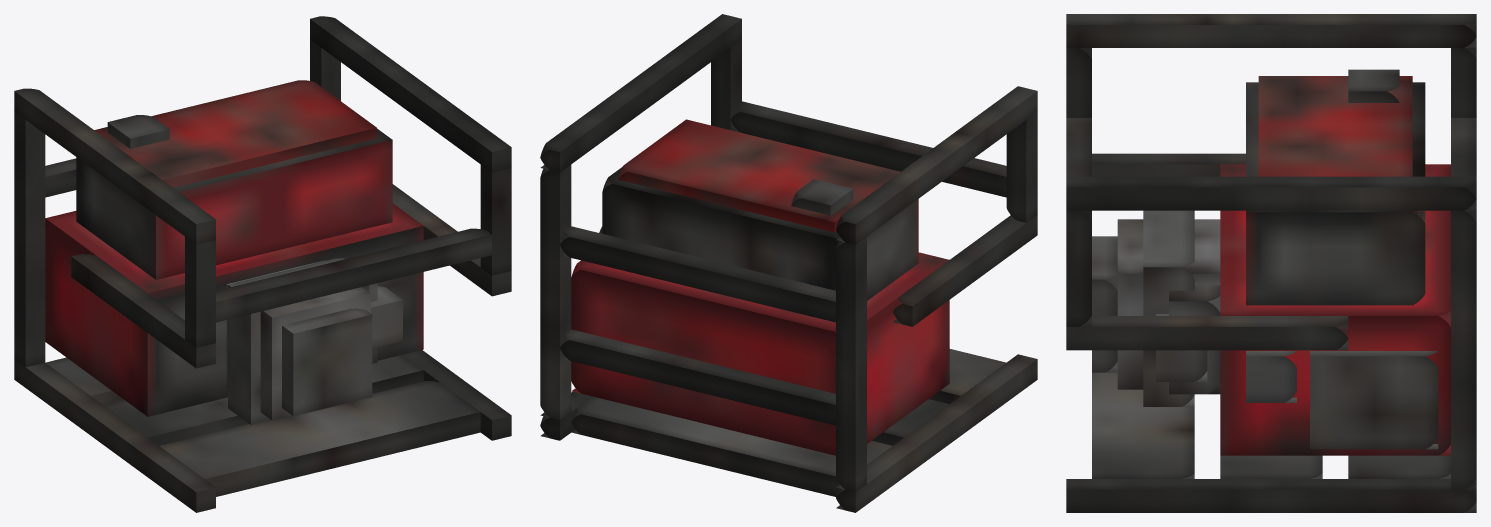
The model's file is power_generator.obj.
3 views of the same model, side by side, from view 1: azimuth 30°, elevation 25°; view 2: azimuth 150°, elevation 25°; view 3: azimuth 270°, elevation 25° (orthographic). The views are drawn at different scales.
Parts seen in each view (by area): view 1: nJ, nK, nA, nM, nS, nO, nE, nD, nC, nx, nH, nT (+11 smaller); view 2: nJ, nK, nM, nz, nU, nV, nE, nD, nC, nS, nB, nx (+7 smaller); view 3: nJ, nK, nM, nD, nE, ny, nX, nI, nA, nB, nP, nN (+13 smaller).
Part boxes in pixels (x1,y1,x2,y2): nJ: (45, 203, 423, 416); nK: (76, 128, 392, 279); nA: (160, 381, 480, 496); nM: (94, 80, 376, 187); nS: (216, 228, 491, 322); nO: (282, 308, 372, 416); nE: (14, 88, 215, 244); nD: (310, 16, 511, 172); nC: (14, 112, 45, 367); nx: (14, 359, 215, 512); nH: (71, 254, 215, 368); nT: (102, 355, 423, 445); nJ: (571, 252, 949, 455); nK: (602, 167, 918, 300); nM: (618, 119, 900, 232); nz: (571, 396, 891, 496); nU: (560, 226, 835, 322); nV: (560, 329, 835, 425); nE: (836, 86, 1037, 244); nD: (540, 14, 741, 172); nC: (836, 237, 866, 492); nS: (731, 101, 1006, 197); nB: (540, 165, 571, 419); nx: (836, 354, 1037, 512); nJ: (1220, 164, 1450, 455); nK: (1246, 82, 1425, 305); nM: (1258, 76, 1412, 176); nD: (1066, 176, 1476, 210); nE: (1066, 14, 1476, 47); ny: (1066, 479, 1476, 512); nX: (1310, 351, 1438, 449); nI: (1066, 316, 1348, 350); nA: (1092, 372, 1194, 478); nB: (1451, 200, 1476, 489); nP: (1143, 210, 1194, 406); nN: (1117, 219, 1220, 389).
Bounding box in the file's own units: 1 × 0.875 × 1.
Materials: 1 (1 with a texture image).
